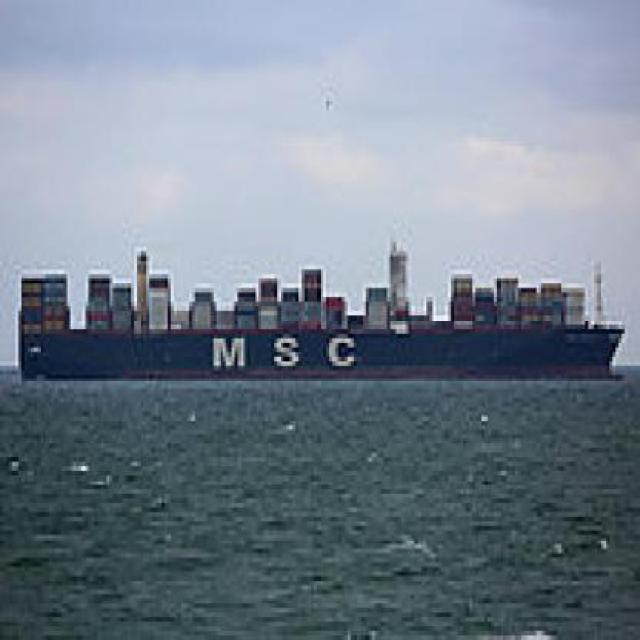container: (13, 234, 629, 394)
